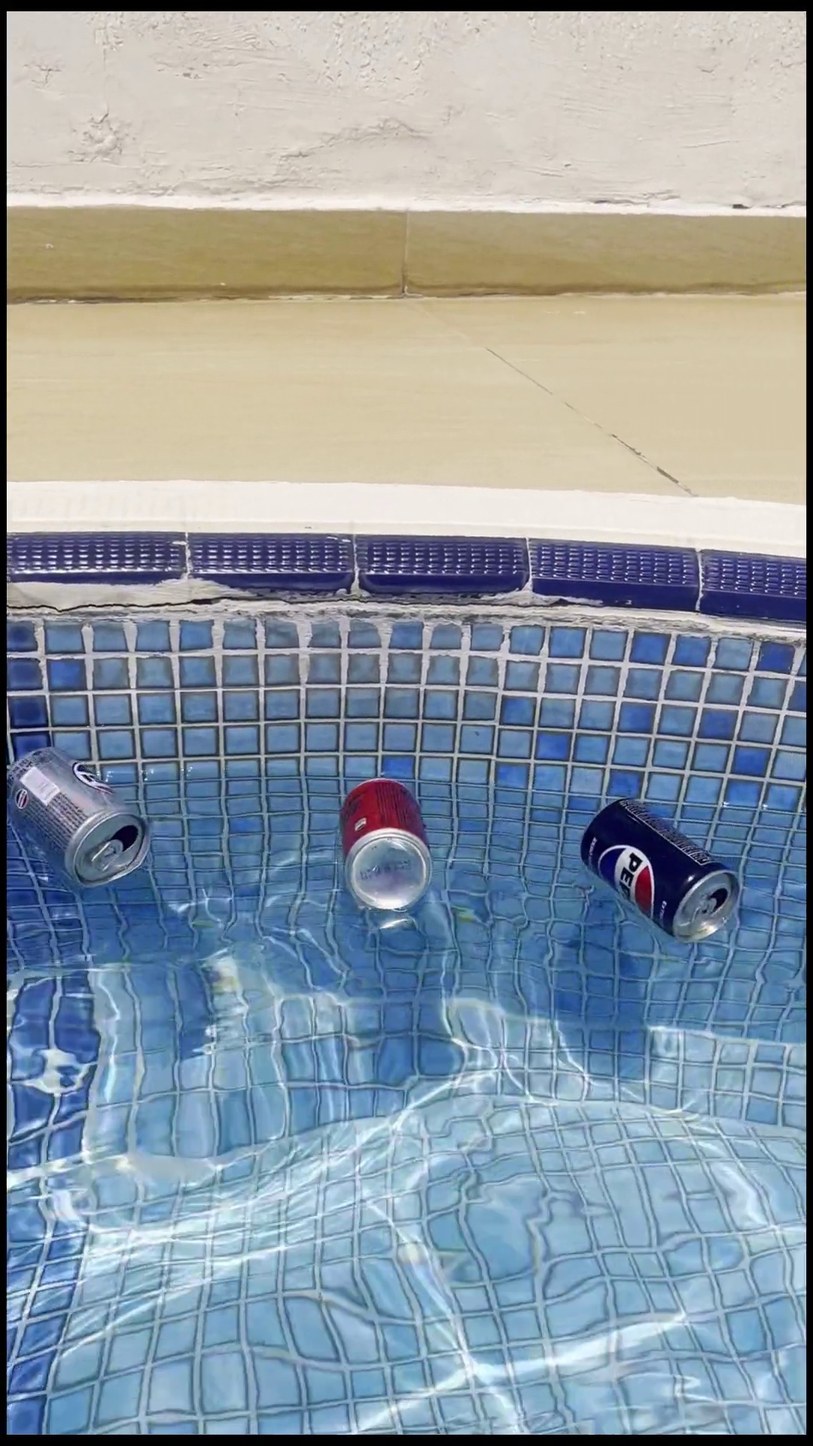debris: (567, 744, 745, 976), (8, 718, 147, 905), (329, 768, 431, 940)
